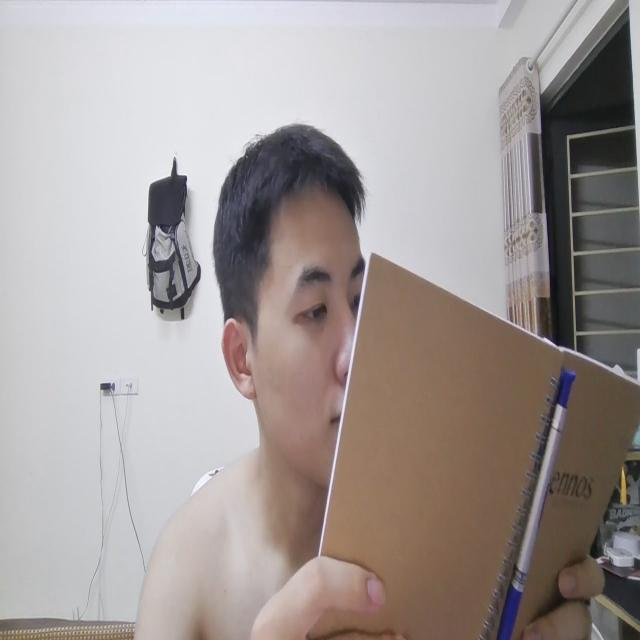book: (316, 231, 640, 640)
student: (177, 120, 370, 640)
